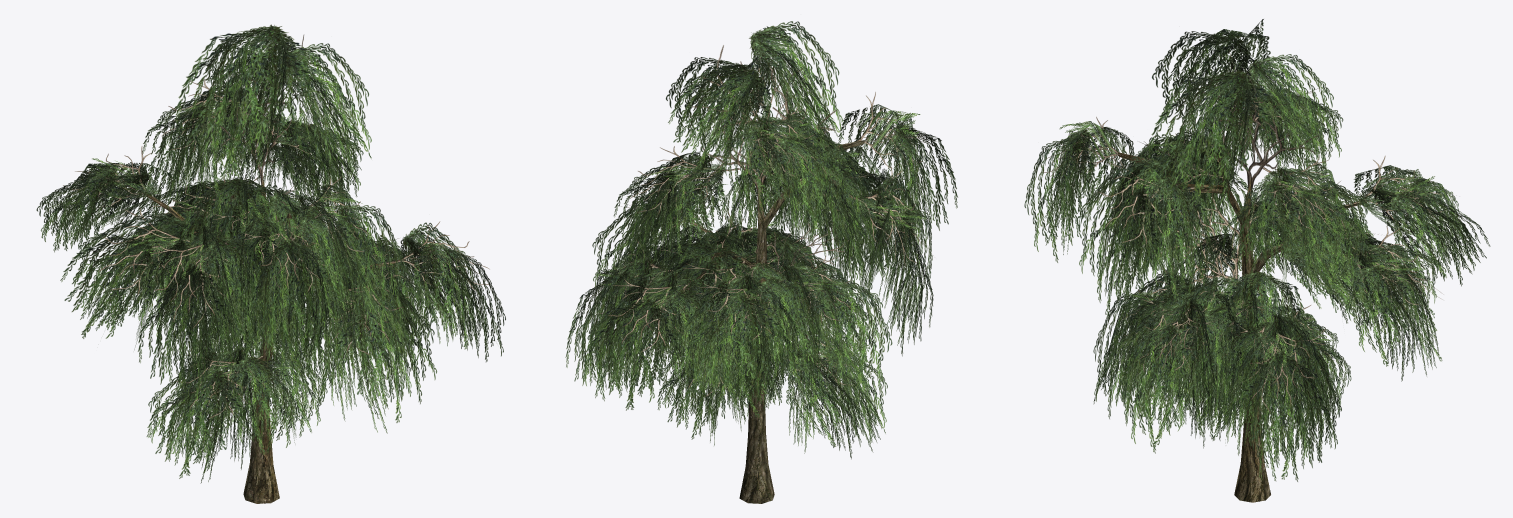
The model's file is tree902.glb.
3 views of the same model, side by side, from view 1: azimuth 30°, elevation 25°; view 2: azimuth 150°, elevation 25°; view 3: azimuth 270°, elevation 25° (orthographic). The views are drawn at different scales.
Visible parts, largest first — view 1: tree902-col; view 2: tree902-col; view 3: tree902-col.
Part boxes in pixels (x1,y1,x2,y2): tree902-col: (36,24,505,503); tree902-col: (565,21,957,503); tree902-col: (1024,19,1490,502).
Size of the model in its own units: 23.5 by 29.21 by 27.86.
Materials: 3 (3 with a texture image).
